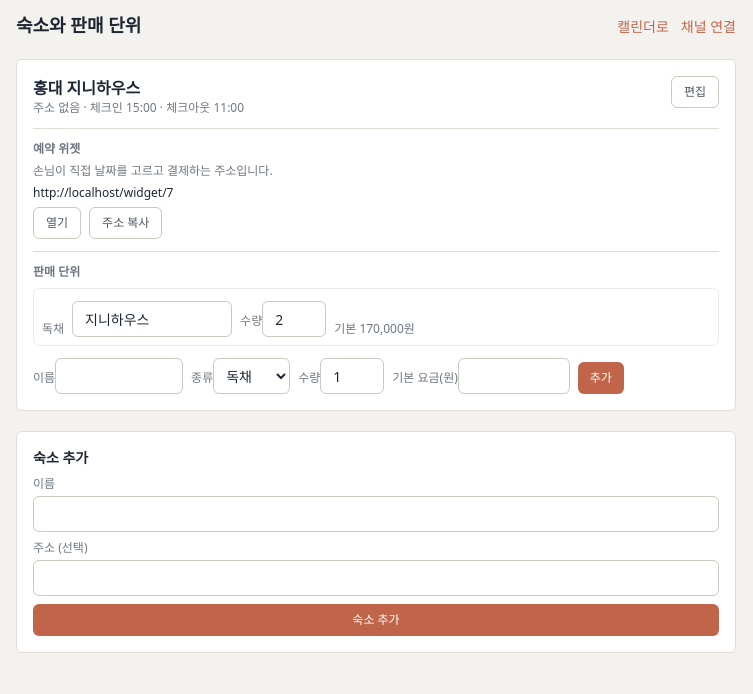
Test: 숙소·판매 단위 화면 › 수량을 팔린 날 아래로 줄이면 서버가 준 막는 날짜를 그대로 보여 준다
The width and height of the screenshot is (753, 694).
Replace the text in the number field named "지니하우스 수량" with "1" at (294, 319), box x1=262 y1=301 x2=326 y2=337
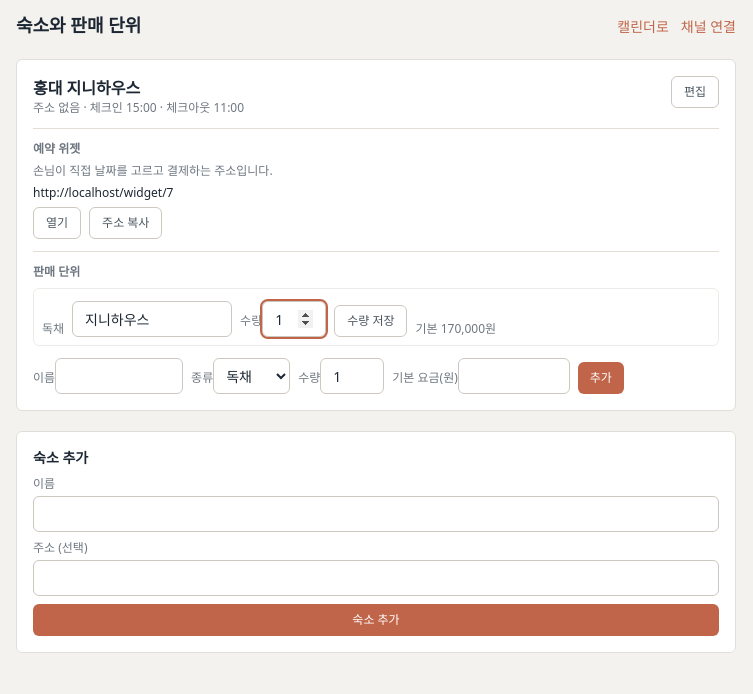
Click the button "수량 저장" at (371, 321), box x1=334 y1=305 x2=408 y2=337
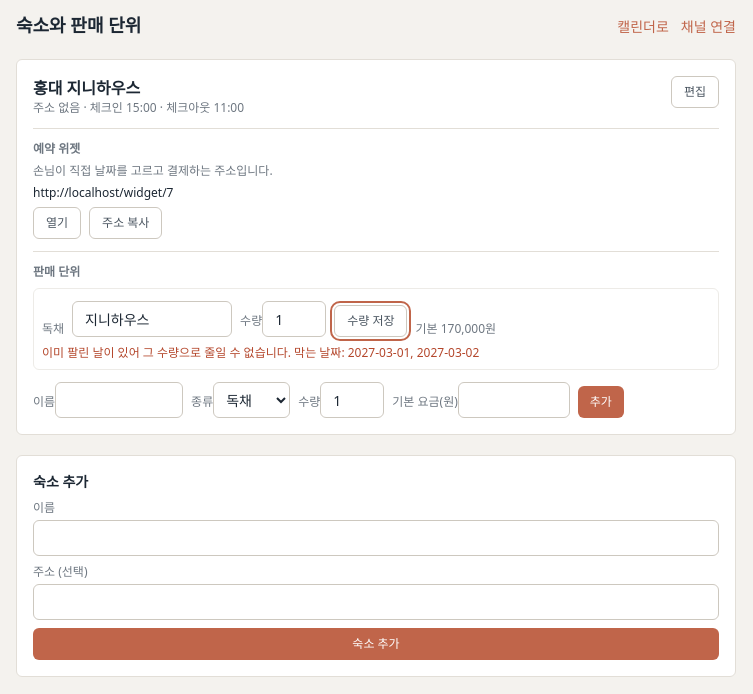
Result: the message with test id "capacity-blocked" shows "2027-03-01, 2027-03-02" at x1=348 y1=344 x2=479 y2=361
